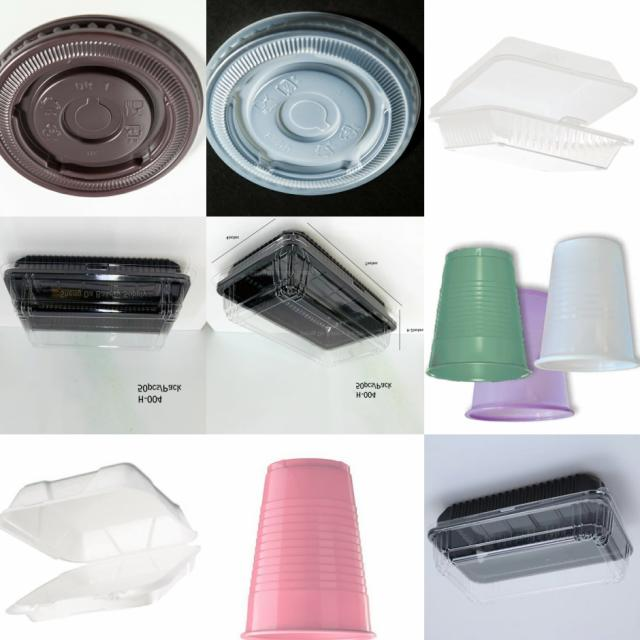plastik: (207, 12, 420, 195), (0, 17, 203, 197), (0, 465, 200, 622), (429, 38, 637, 171), (428, 475, 633, 604), (241, 459, 375, 640), (217, 233, 396, 365), (4, 257, 190, 350), (465, 290, 574, 422), (535, 238, 640, 373), (426, 248, 531, 382)
